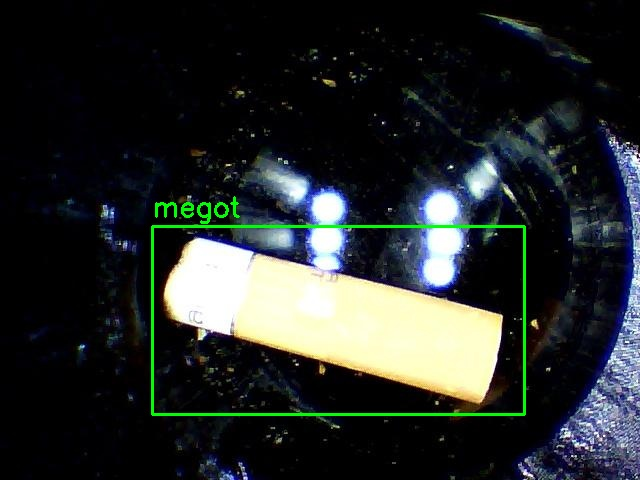megot: (152, 226, 524, 414)
